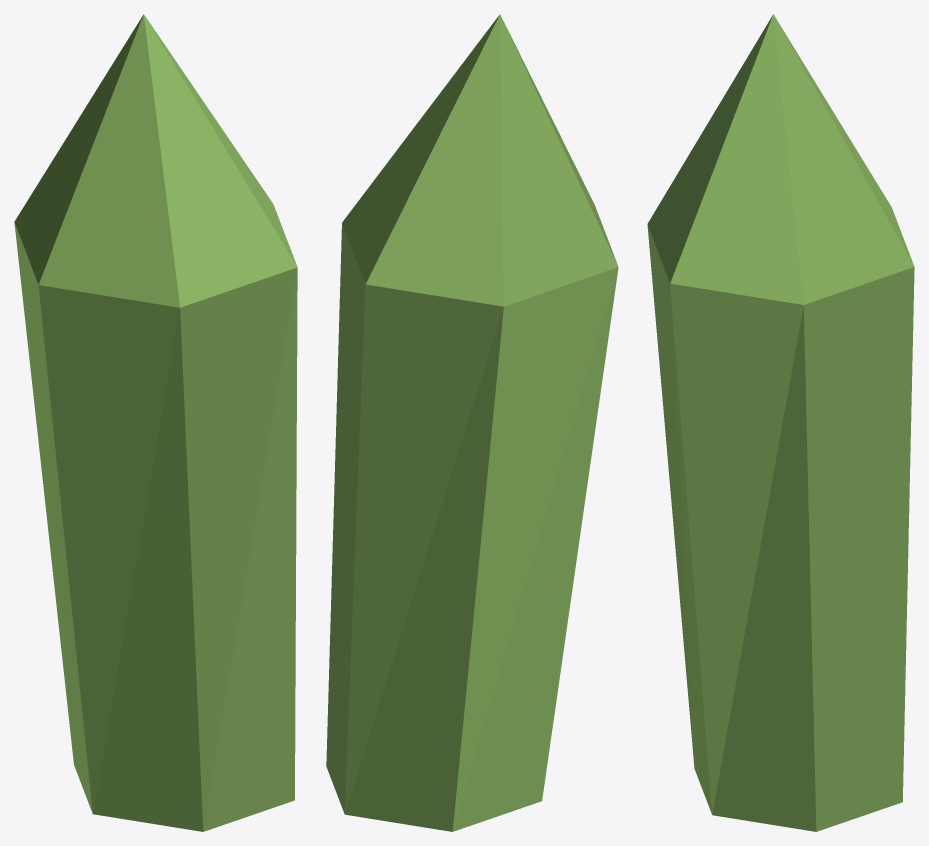
The model's file is crystal_main_green.glb.
3 views of the same model, side by side, from view 1: azimuth 30°, elevation 25°; view 2: azimuth 150°, elevation 25°; view 3: azimuth 270°, elevation 25° (orthographic). The views are drawn at different scales.
Visible parts, largest first — view 1: Crystal_main; view 2: Crystal_main; view 3: Crystal_main.
Part boxes in pixels (box(x1,y1,x2,y2)): Crystal_main: box(14, 14, 297, 831); Crystal_main: box(326, 14, 618, 831); Crystal_main: box(647, 14, 914, 831).
Bounding box in the file's own units: 0.3477 × 0.98 × 0.3178.
